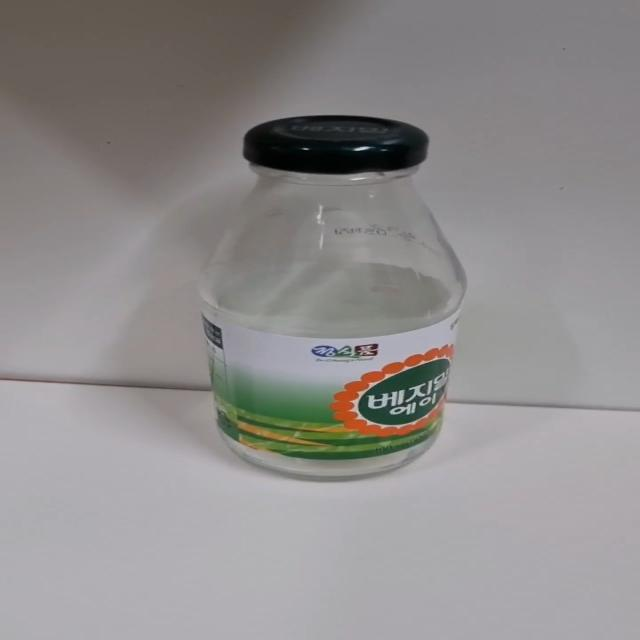Glass: (195, 115, 468, 485)
